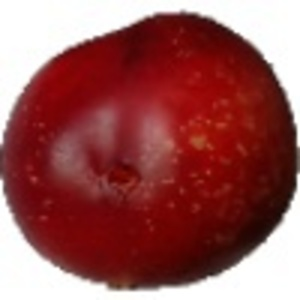nectarina: (1, 11, 300, 293)
